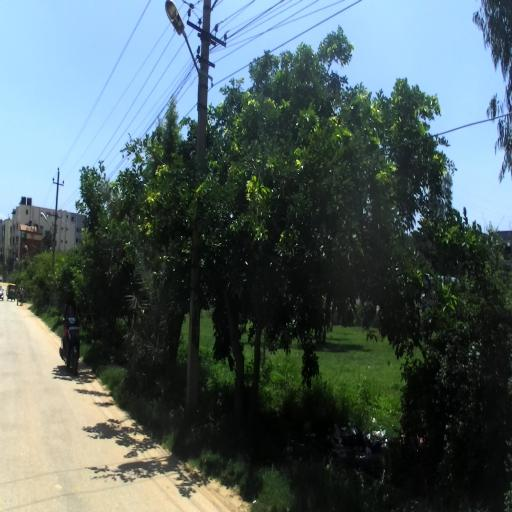street_light_0: (164, 0, 208, 112), (40, 212, 56, 242), (16, 258, 20, 264), (5, 262, 7, 264)
